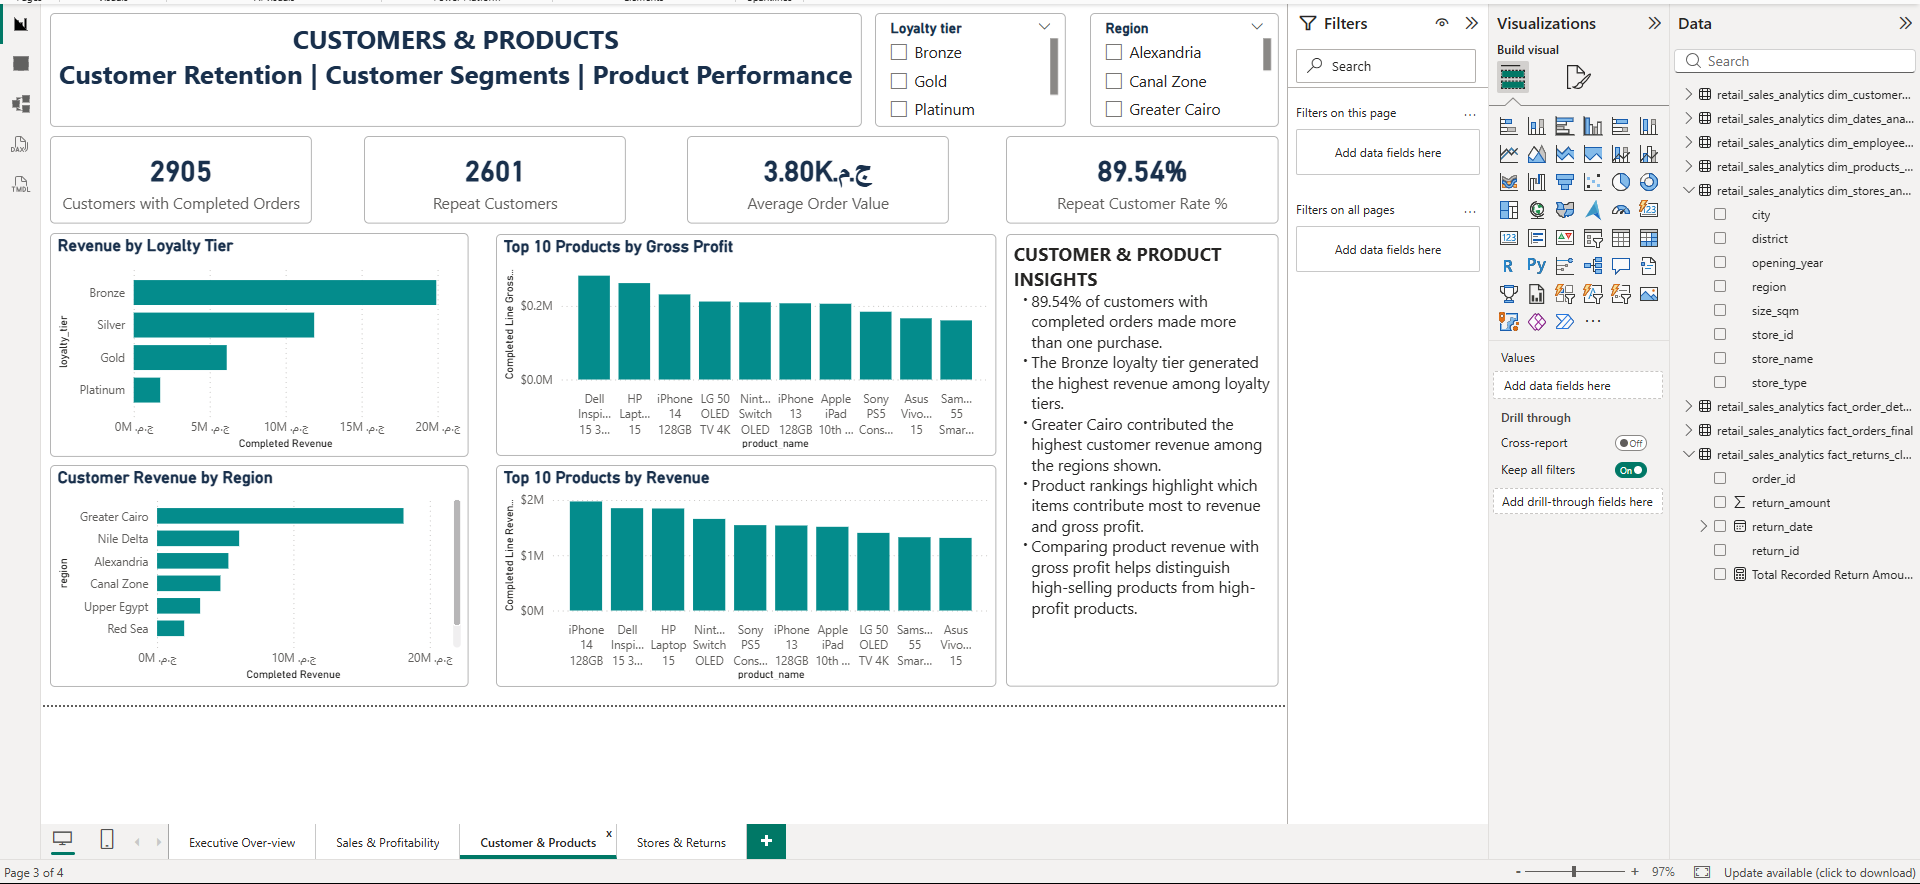

What the dashboard file says about the page in this screenshot:
{"tool":"powerbi","page":{"name":"Customer & Products","canvas":[1280,720],"ordinal":2},"visuals":[{"type":"textbox","box":[9.3,9.3,833.5,116.6],"z":0},{"type":"card","fields":{"Values":["retail_sales_analytics fact_orders_final.Customers with Completed Orders"]},"box":[9.3,135.2,269.3,89.8],"z":1000},{"type":"card","fields":{"Values":["retail_sales_analytics fact_orders_final.Repeat Customers"]},"box":[332.2,135.2,269.3,89.8],"z":2000},{"type":"card","fields":{"Values":["retail_sales_analytics fact_orders_final.Repeat Customer Rate %"]},"box":[990.9,135.2,279.8,89.8],"z":3000},{"type":"card","fields":{"Values":["retail_sales_analytics fact_orders_final.Average Order Value"]},"box":[663.3,135.2,269.3,89.8],"z":4000},{"type":"clusteredBarChart","title":"Revenue by Loyalty Tier","fields":{"Category":["retail_sales_analytics dim_customers_analytics.loyalty_tier"],"Y":["retail_sales_analytics fact_orders_final.Completed Revenue"]},"box":[9.3,235.5,430.2,229.7],"z":5000},{"type":"clusteredBarChart","title":"Customer Revenue by Region","fields":{"Category":["retail_sales_analytics dim_customers_analytics.region"],"Y":["retail_sales_analytics fact_orders_final.Completed Revenue"]},"box":[9.3,473.3,430.2,228.5],"z":6000},{"type":"columnChart","title":"Top 10 Products by Revenue","fields":{"Category":["retail_sales_analytics dim_products_clean.product_name"],"Y":["retail_sales_analytics fact_order_details_analytics.Completed Line Revenue"]},"box":[467.5,473.3,514.1,228.5],"z":7000},{"type":"columnChart","title":"Top 10 Products by Gross Profit","fields":{"Y":["retail_sales_analytics fact_order_details_analytics.Completed Line Gross Profit"],"Category":["retail_sales_analytics dim_products_clean.product_name"]},"box":[467.5,236.6,514.1,228.5],"z":8000},{"type":"textbox","box":[990.9,236.6,279.8,465.1],"z":9000},{"type":"slicer","fields":{"Values":["retail_sales_analytics dim_customers_analytics.loyalty_tier"]},"box":[856.8,9.3,195.8,116.6],"z":10000},{"type":"slicer","fields":{"Values":["retail_sales_analytics dim_stores_analytics.region"]},"box":[1077.2,9.3,193.5,116.6],"z":11000}]}

Visuals, with their boxes on the page's 1280x720 design canvas (x1, y1, x2, y2). These are canvas units, not pixel positions in the 1920x884 screenshot, which may show the page scaled, cropped or inside an application window:
textbox: 9, 9, 843, 126
card - retail_sales_analytics fact_orders_final.Customers with Completed Orders: 9, 135, 279, 225
card - retail_sales_analytics fact_orders_final.Repeat Customers: 332, 135, 602, 225
card - retail_sales_analytics fact_orders_final.Repeat Customer Rate %: 991, 135, 1271, 225
card - retail_sales_analytics fact_orders_final.Average Order Value: 663, 135, 933, 225
"Revenue by Loyalty Tier" clusteredBarChart: 9, 236, 440, 465
"Customer Revenue by Region" clusteredBarChart: 9, 473, 440, 702
"Top 10 Products by Revenue" columnChart: 468, 473, 982, 702
"Top 10 Products by Gross Profit" columnChart: 468, 237, 982, 465
textbox: 991, 237, 1271, 702
slicer - retail_sales_analytics dim_customers_analytics.loyalty_tier: 857, 9, 1053, 126
slicer - retail_sales_analytics dim_stores_analytics.region: 1077, 9, 1271, 126
